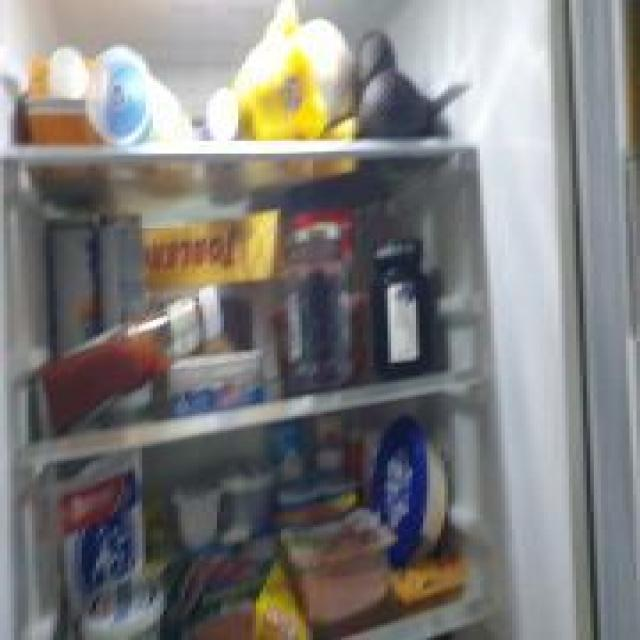avocado: (352, 73, 423, 138), (354, 34, 396, 107)
cheese: (167, 362, 267, 415)
marmelade: (370, 237, 434, 384)
mayonaise: (91, 47, 197, 186)
